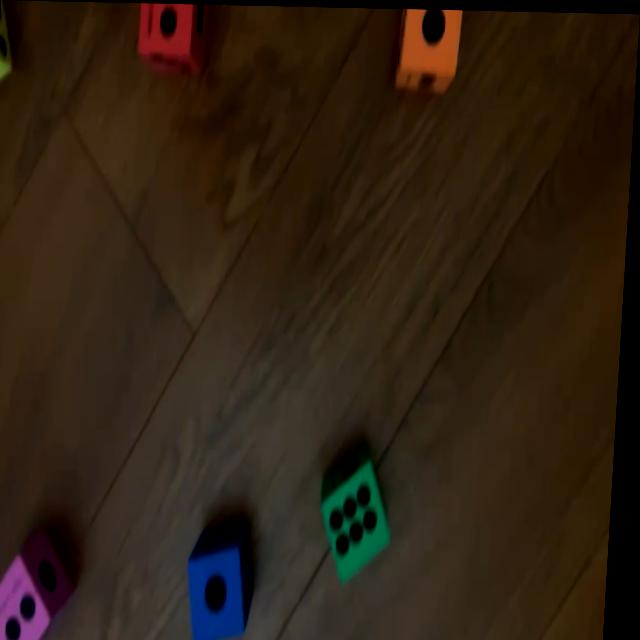cube: (325, 447, 400, 580), (191, 520, 262, 640), (135, 2, 206, 75)
